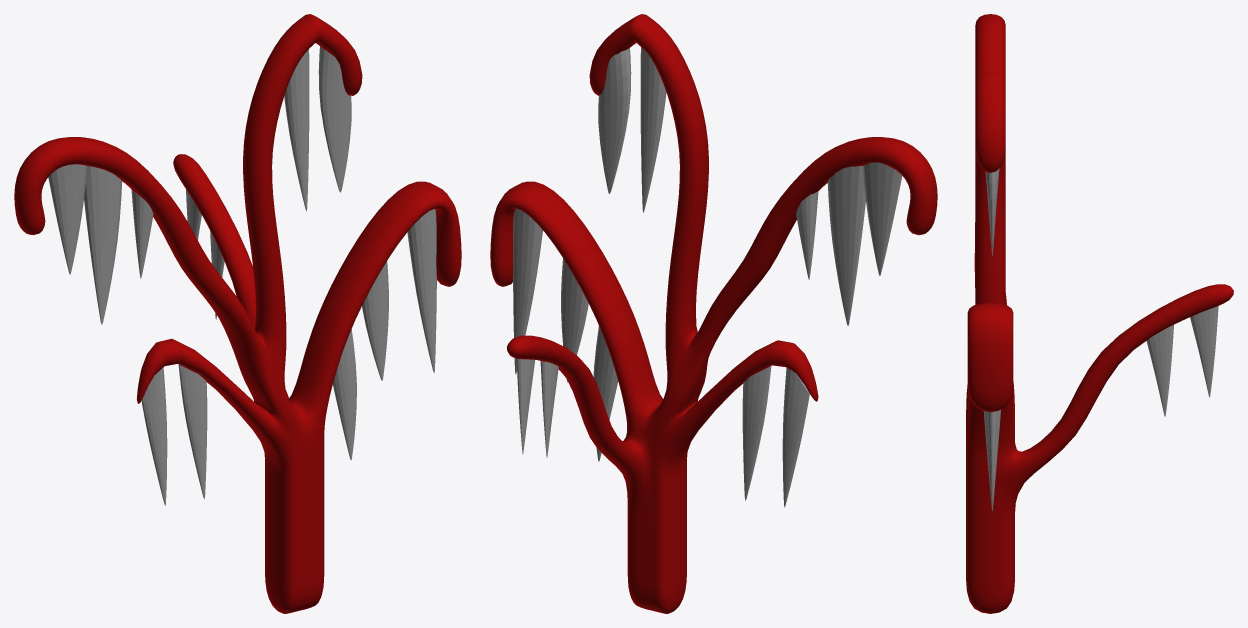
The model's file is mars-tree-01.obj.
3 renders of one model, left to right at view 1: azimuth 30°, elevation 25°; view 2: azimuth 150°, elevation 25°; view 3: azimuth 270°, elevation 25°, orthographic. The views are drawn at different scales.
Parts seen in each view (by area): view 1: Cube.006_Cube.001; view 2: Cube.006_Cube.001; view 3: Cube.006_Cube.001.
Boxes of the visible parts, x1,y1,x2,y2 form: Cube.006_Cube.001: [14, 14, 461, 613]; Cube.006_Cube.001: [490, 14, 937, 613]; Cube.006_Cube.001: [966, 14, 1233, 613].
Size of the model in its own units: 1.91 by 2.45 by 1.1.
